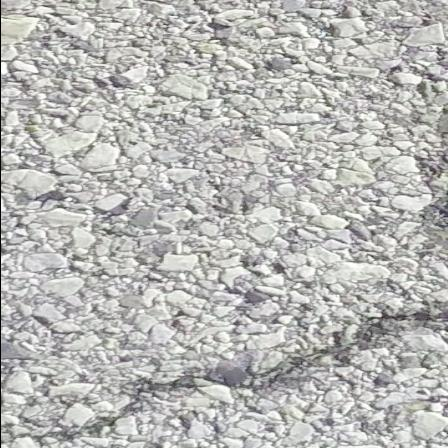crack: (0, 277, 448, 448)
